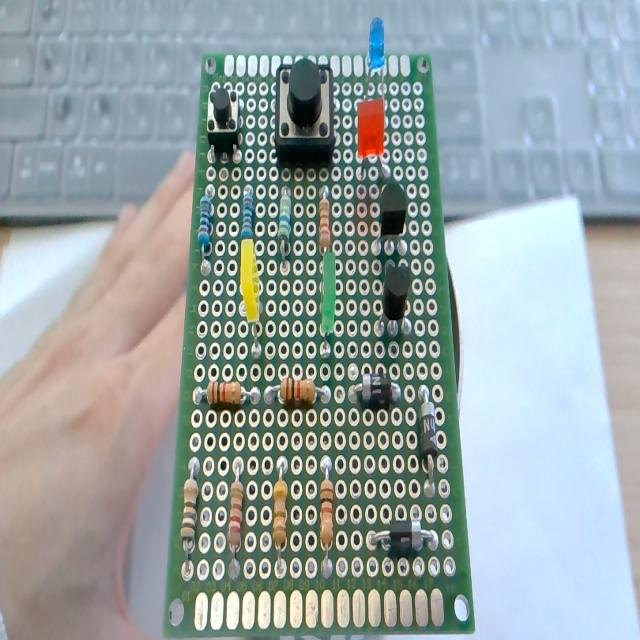diode: (414, 380, 444, 502), (365, 516, 442, 562), (343, 370, 406, 412)
led: (231, 236, 266, 362), (350, 95, 396, 183), (355, 17, 391, 110), (315, 250, 344, 359)
resistor: (313, 447, 337, 588), (270, 443, 292, 588), (225, 452, 248, 590), (189, 374, 260, 412), (270, 187, 299, 280), (180, 452, 201, 580), (263, 376, 331, 412), (194, 180, 214, 280), (312, 184, 333, 256), (236, 184, 258, 242)
switch: (269, 54, 339, 170), (203, 86, 243, 158)
transistor: (370, 260, 416, 341), (370, 183, 410, 259)
